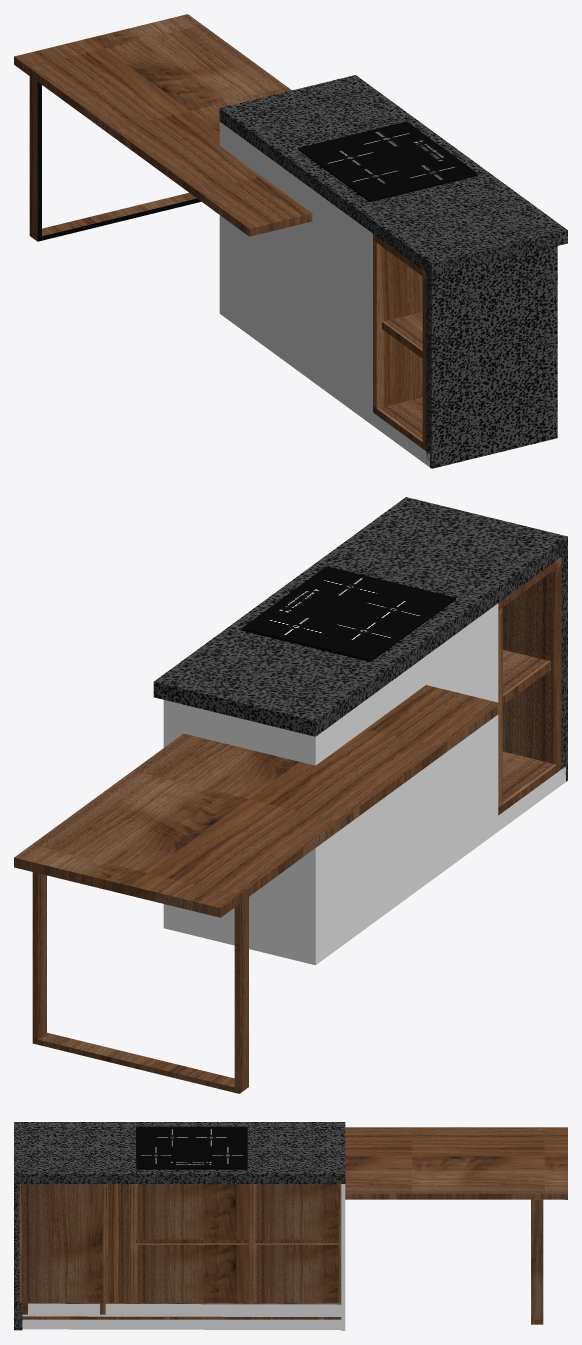
Rendered from Meson2.fbx.
The picture shows the model from 3 angles, top to bottom: view 1: azimuth 30°, elevation 25°; view 2: azimuth 150°, elevation 25°; view 3: azimuth 270°, elevation 25°; orthographic projection. The views are drawn at different scales.
Visible parts, largest first — view 1: Group4, lateral_17_1, Group2, Group16, coz_fog_78_52_1, lateral_15_1, Group13, Group14, lateral_16_1; view 2: Group4, Group2, Group16, coz_fog_78_52_1, lateral_15_1, Group13, Group14, lateral_17_1, lateral_16_1; view 3: Group4, Group16, Group8, Group2, Group10, Group12, Group9, coz_fog_78_52_1, Group7, Group5, Group13, Group1 (+8 smaller).
Boxes of the visible parts, x1,y1,x2,y2 form: Group4: (14,14,312,241); lateral_17_1: (426,233,557,468); Group2: (219,122,429,467); Group16: (219,75,567,276); coz_fog_78_52_1: (298,121,478,202); lateral_15_1: (373,240,426,444); Group13: (373,397,426,450); Group14: (382,312,422,358); lateral_16_1: (426,273,429,460); Group4: (14,685,500,1093); Group2: (163,603,565,965); Group16: (153,497,567,736); coz_fog_78_52_1: (241,566,455,661); lateral_15_1: (498,564,561,807); Group13: (498,751,561,815); Group14: (502,649,550,704); lateral_17_1: (561,544,567,781); lateral_16_1: (561,554,565,773); Group4: (345,1127,567,1324); Group16: (14,1122,345,1183); Group8: (19,1184,102,1302); Group2: (22,1184,345,1330); Group10: (135,1243,248,1302); Group12: (135,1184,248,1239); Group9: (254,1243,338,1302); coz_fog_78_52_1: (136,1126,247,1169); Group7: (254,1184,338,1239); Group5: (108,1184,129,1302); Group13: (22,1302,341,1319); Group1: (135,1239,338,1243).
Size of the model in its own units: 37.41 by 37.24 by 116.
